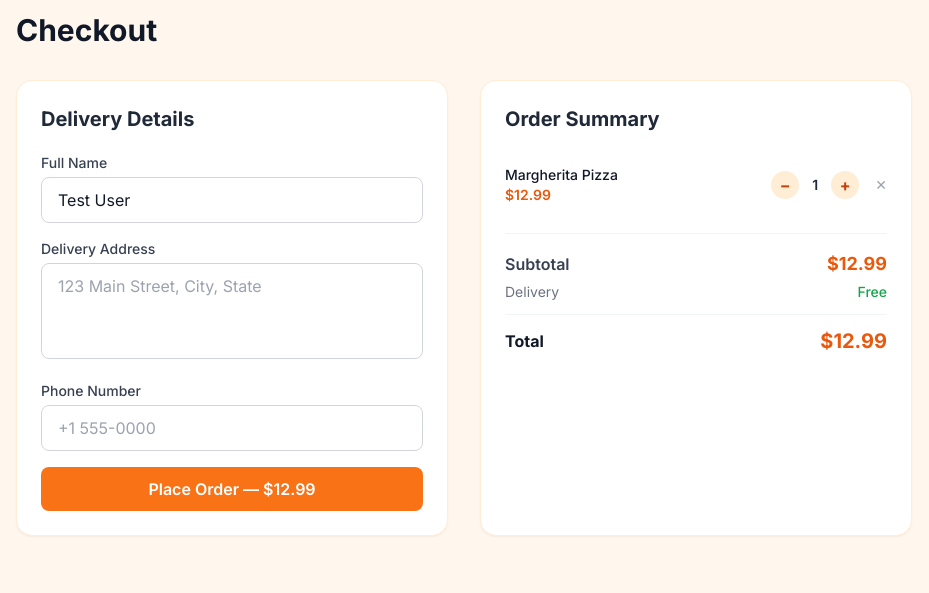
Test: CheckoutPage › shows validation error when address is empty on submit
Replace the text in the field with test id "input-name" with "John" at [232, 200], box [41,177,423,223]
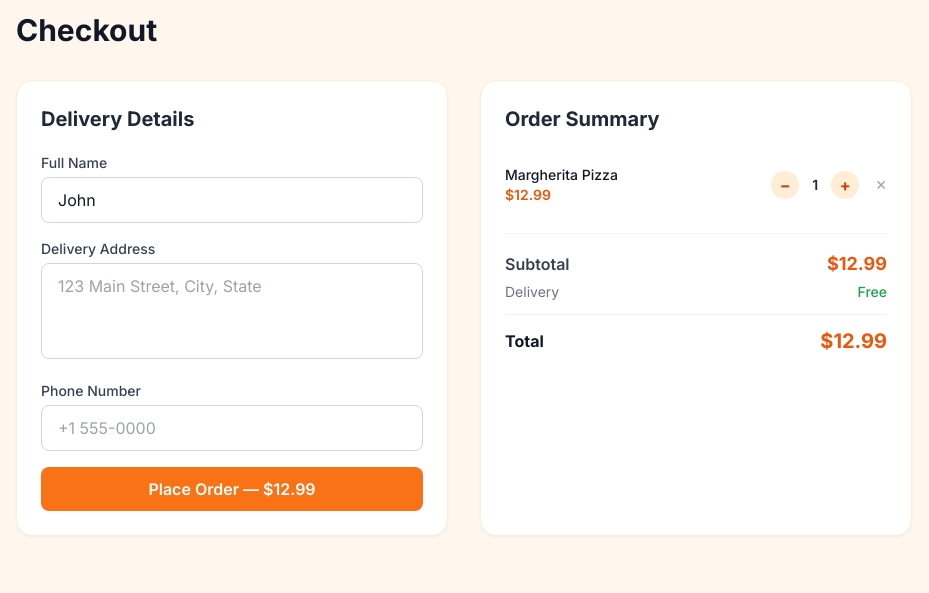
Click the button with test id "submit-order" at [232, 489], box [41,467,423,511]
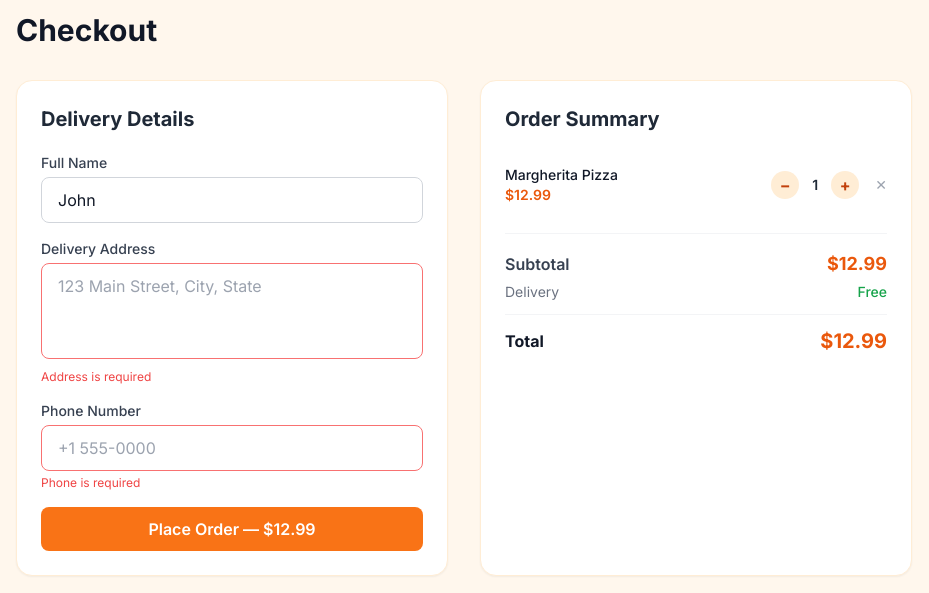
Now the text with test id "error-address" reads "Address is required", box [41,369,151,384]
